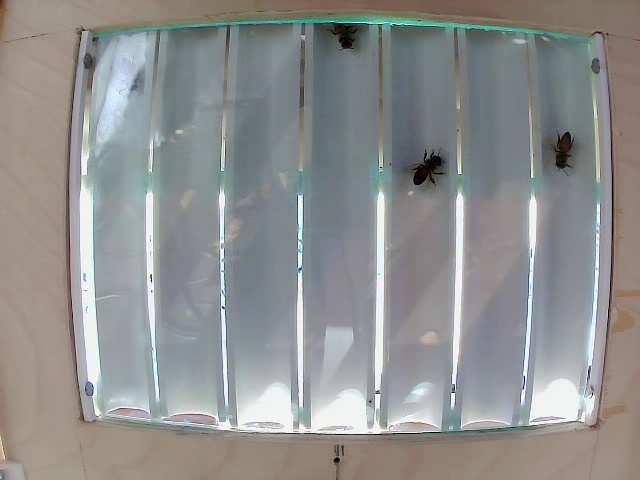bee: (399, 143, 447, 195), (517, 131, 565, 174), (325, 16, 362, 56)
